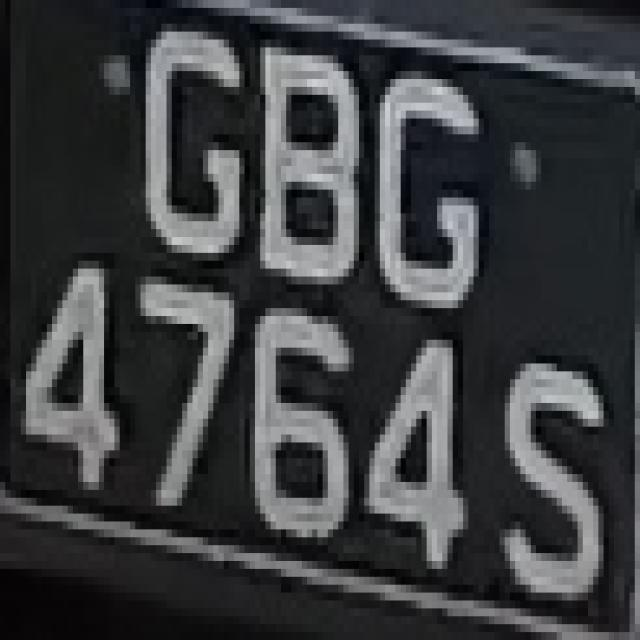4: (10, 222, 136, 522), (349, 316, 484, 569)
6: (229, 277, 359, 553)
7: (130, 245, 239, 529)
B: (244, 16, 380, 308)
G: (114, 8, 250, 269), (375, 47, 484, 324)
S: (499, 340, 609, 608)
